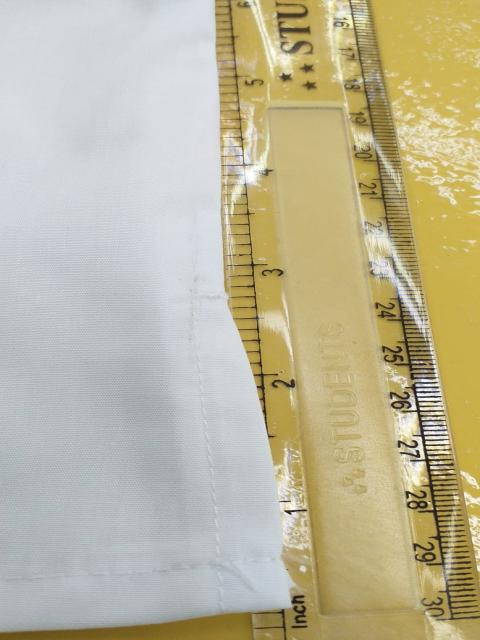Dirty_mark: (178, 270, 206, 344)
